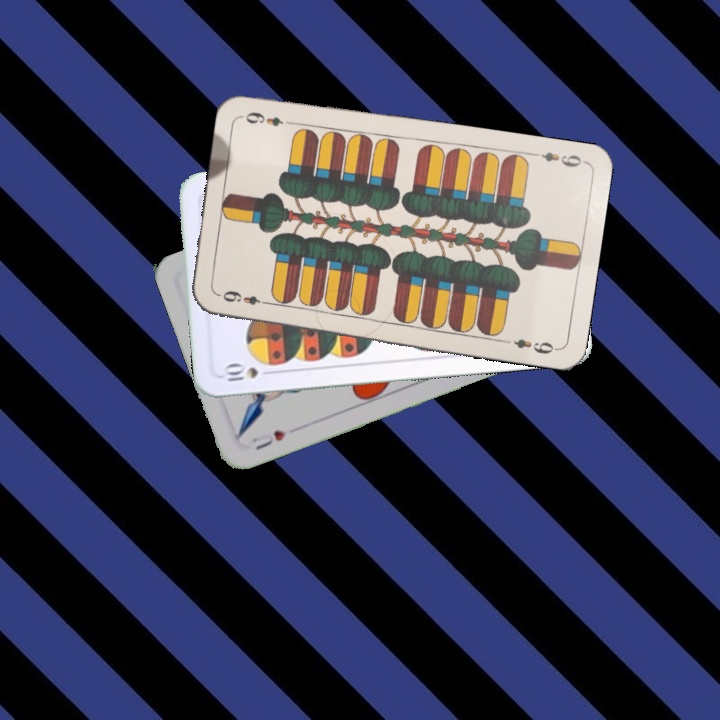E9: (528, 147, 587, 170), (214, 286, 273, 308)
HU: (248, 426, 289, 453)
S10: (218, 361, 277, 384)
